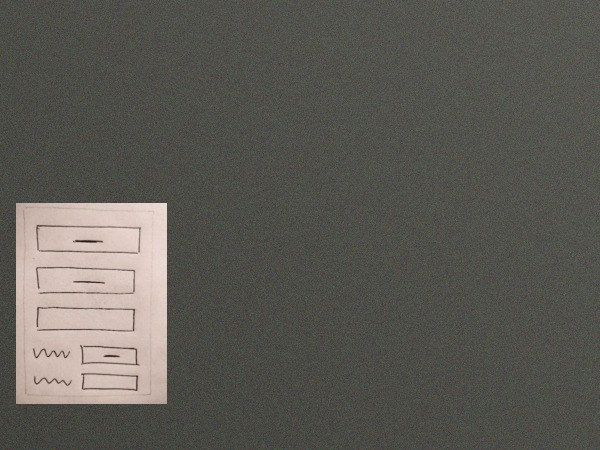button: (34, 223, 141, 259), (32, 263, 139, 299), (78, 343, 140, 369)
text: (31, 372, 74, 392), (29, 342, 71, 362)
text_input: (33, 305, 137, 337), (80, 372, 139, 393)
